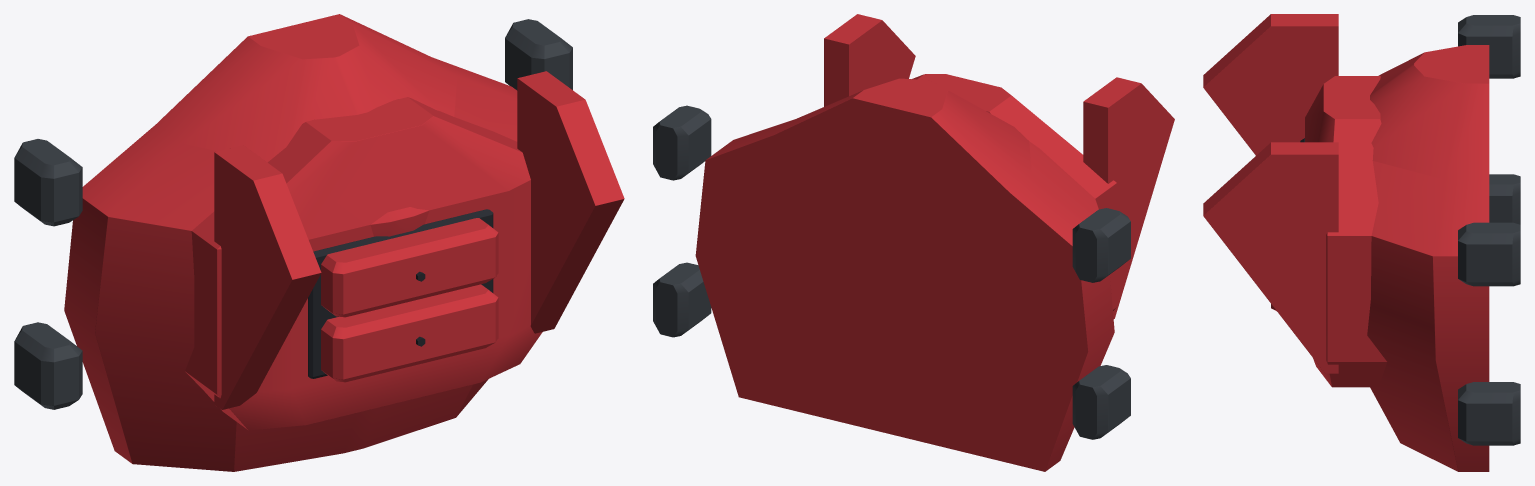
The model's file is ShoulderFront_Set02_Bastion.fbx.
3 views of the same model, side by side, from view 1: azimuth 30°, elevation 25°; view 2: azimuth 150°, elevation 25°; view 3: azimuth 270°, elevation 25° (orthographic). The views are drawn at different scales.
Visible parts, largest first — view 1: ShoulderFront_Set02_Bastion; view 2: ShoulderFront_Set02_Bastion; view 3: ShoulderFront_Set02_Bastion.
Part boxes in pixels (x1,y1,x2,y2): ShoulderFront_Set02_Bastion: (14,14,624,471); ShoulderFront_Set02_Bastion: (653,14,1174,471); ShoulderFront_Set02_Bastion: (1203,14,1520,471).
Bounding box in the file's own units: 0.51 × 0.35 × 0.3036.
